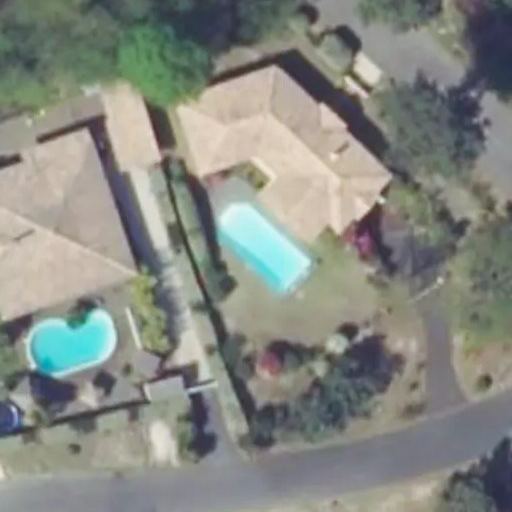pool: (202, 220, 302, 256)
